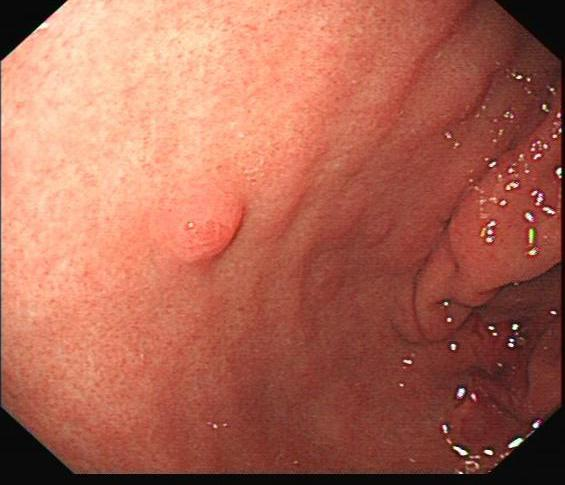Polyp: (162, 193, 249, 270)
